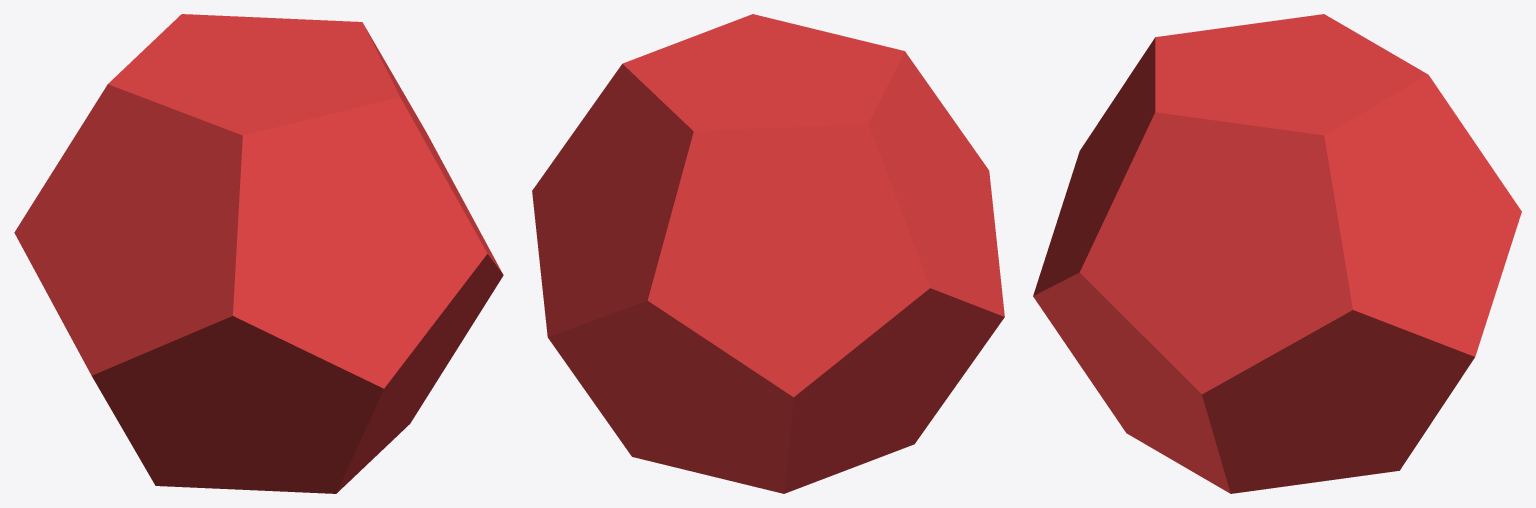
File: Dodecahedron.glb
3 views of the same model, side by side, from view 1: azimuth 30°, elevation 25°; view 2: azimuth 150°, elevation 25°; view 3: azimuth 270°, elevation 25° (orthographic). The views are drawn at different scales.
Parts seen in each view (by area): view 1: Dodecadedron; view 2: Dodecadedron; view 3: Dodecadedron.
Part boxes in pixels (box(x1,y1,x2,y2)): Dodecadedron: box(14, 14, 503, 493); Dodecadedron: box(532, 14, 1004, 493); Dodecadedron: box(1033, 14, 1521, 493).
Size of the model in its own units: 1.54 by 1.31 by 1.62.
